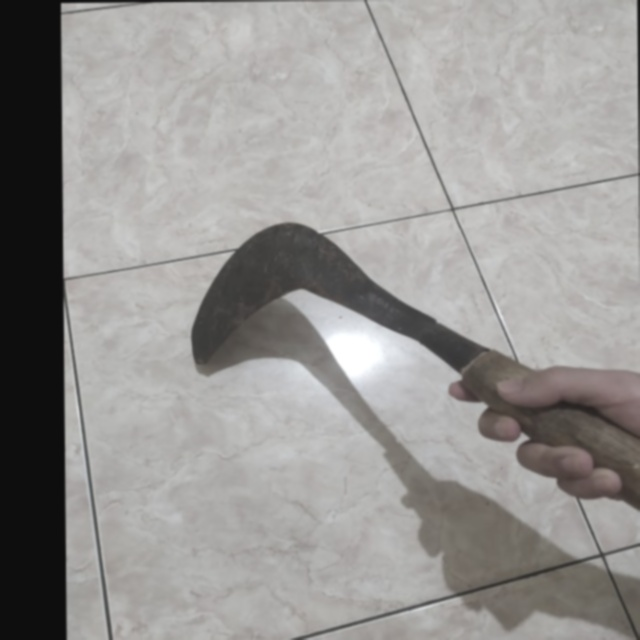Sharp-Object: (183, 209, 640, 506)
